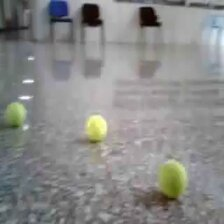tennis: (158, 159, 185, 199), (85, 114, 107, 142), (5, 101, 26, 126)
